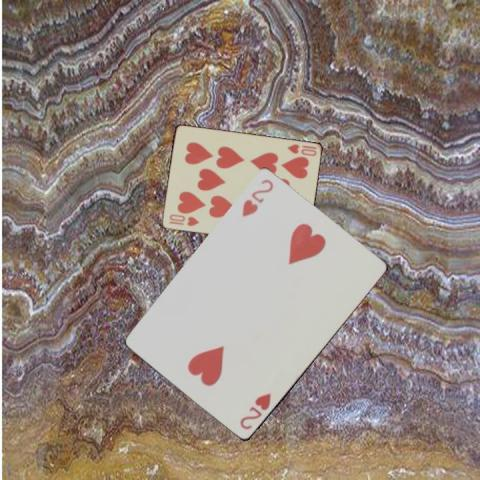10h: (166, 212, 200, 228), (284, 142, 318, 158)
2h: (236, 390, 272, 432), (239, 177, 274, 219)
